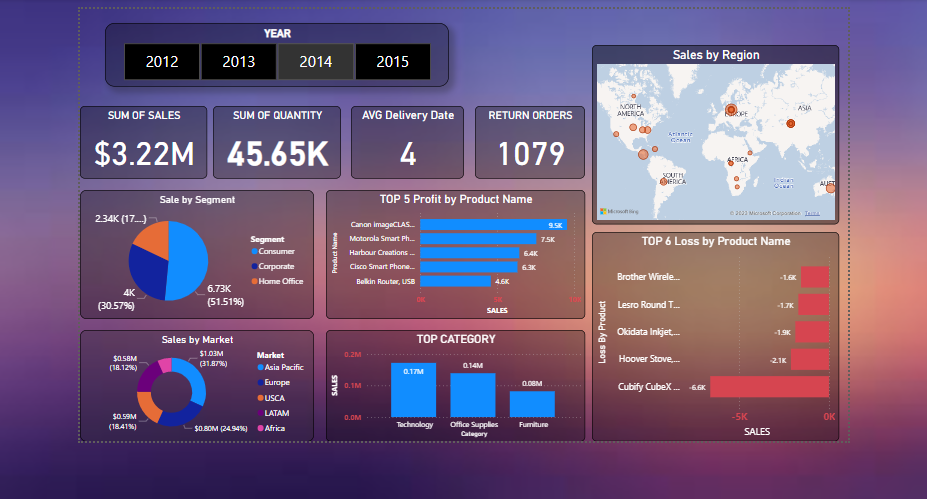

The dashboard page shown, as its layout file describes it:
{"tool":"powerbi","page":{"name":"Page 1","canvas":[1280,720],"ordinal":0},"visuals":[{"type":"card","title":"SUM OF SALES","fields":{"Values":["Sum(Orders.Sales)"]},"box":[0,161.3,211.7,120.9],"z":0},{"type":"map","title":"Sales by Region","fields":{"Category":["Orders.Region"],"Size":["Sum(Orders.Sales)"]},"box":[853.3,60.5,411.5,299],"z":1000},{"type":"card","title":"AVG Delivery Date","fields":{"Values":["Avg(Orders.DELIVERY DAYS)"]},"box":[451.9,161.3,188.1,120.9],"z":2000},{"type":"slicer","title":"YEAR","fields":{"Values":["Orders.Year"]},"box":[42,23.5,572.8,105.8],"z":3000},{"type":"card","title":"RETURN ORDERS","fields":{"Values":["Sum(Returns.Return Orders)"]},"box":[658.5,161.3,183.1,120.9],"z":4000},{"type":"card","title":"SUM OF QUANTITY","fields":{"Values":["Sum(Orders.Quantity)"]},"box":[221.7,161.3,213.3,120.9],"z":4001},{"type":"barChart","title":"TOP 5 Profit by Product Name","fields":{"Y":["Sum(Orders.Profit)"],"Category":["Orders.Product Name"]},"box":[409.9,302.4,431.7,215],"z":4002},{"type":"barChart","title":"TOP 6 Loss by Product Name","fields":{"Y":["Sum(Orders.Profit)"],"Category":["Orders.Product Name"]},"box":[853.3,371.2,411.5,349.4],"z":4003},{"type":"pieChart","title":"Sale by Segment","fields":{"Y":["CountNonNull(Orders.Segment)"],"Category":["Orders.Segment"]},"box":[0,302.4,389.7,215],"z":4004},{"type":"donutChart","title":"Sales by Market","fields":{"Y":["Sum(Orders.Sales)"],"Category":["Orders.Market"]},"box":[0,534.2,389.7,186.5],"z":4005},{"type":"columnChart","title":"TOP CATEGORY","fields":{"Y":["Sum(Orders.Profit)"],"Category":["Orders.Category"]},"box":[409.9,534.2,431.7,186.5],"z":4006}]}

Visuals, with their boxes on the page's 1280x720 design canvas (x1, y1, x2, y2). These are canvas units, not pixel positions in the 927x499 screenshot, which may show the page scaled, cropped or inside an application window:
"SUM OF SALES" card: (0, 161, 212, 282)
"Sales by Region" map: (853, 60, 1265, 360)
"AVG Delivery Date" card: (452, 161, 640, 282)
"YEAR" slicer: (42, 24, 615, 129)
"RETURN ORDERS" card: (658, 161, 842, 282)
"SUM OF QUANTITY" card: (222, 161, 435, 282)
"TOP 5 Profit by Product Name" barChart: (410, 302, 842, 517)
"TOP 6 Loss by Product Name" barChart: (853, 371, 1265, 721)
"Sale by Segment" pieChart: (0, 302, 390, 517)
"Sales by Market" donutChart: (0, 534, 390, 721)
"TOP CATEGORY" columnChart: (410, 534, 842, 721)
